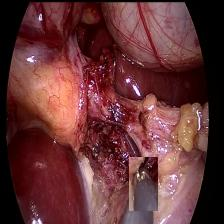Scissors: (128, 156, 157, 210)
